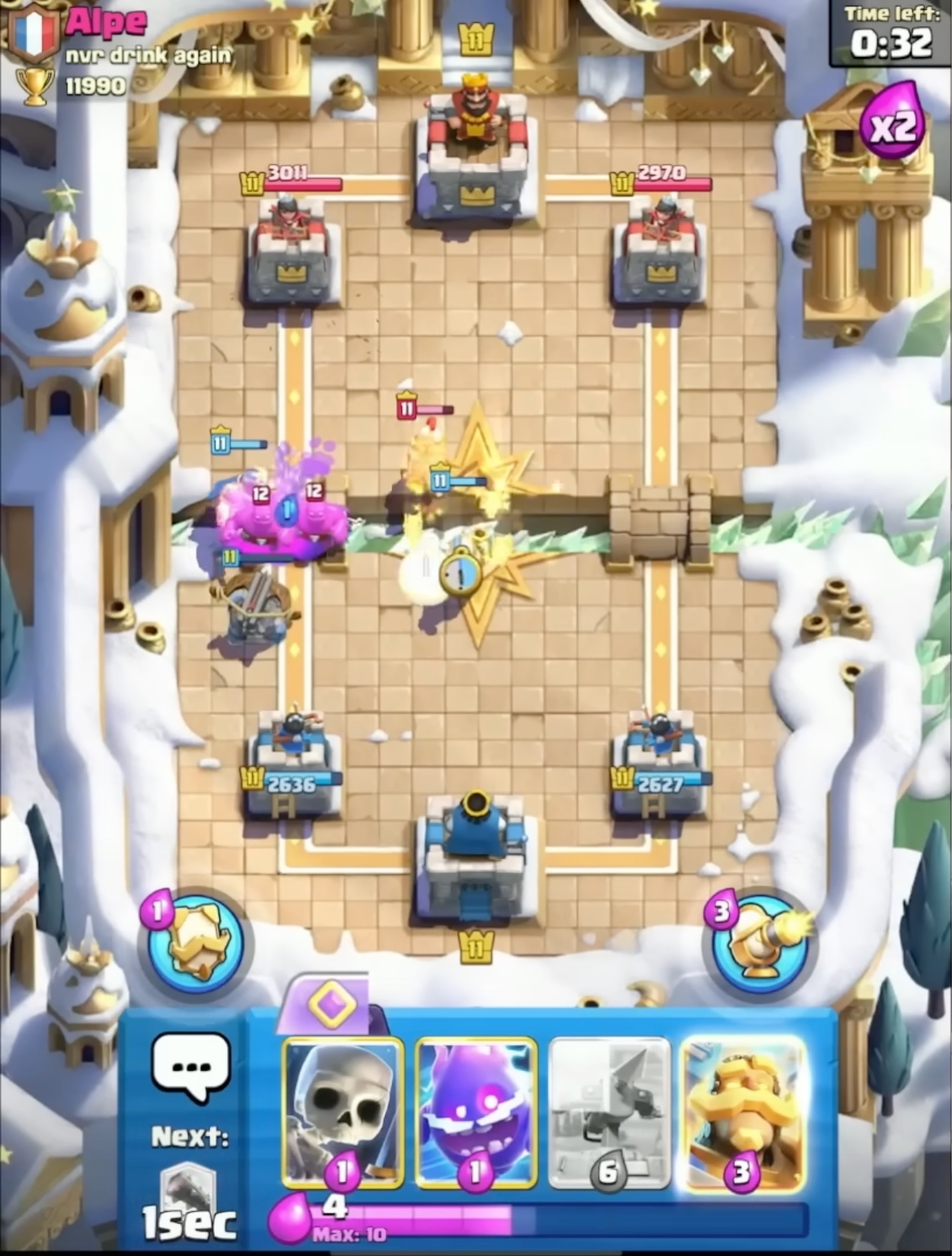hero-musketeer: (385, 378, 461, 507)
